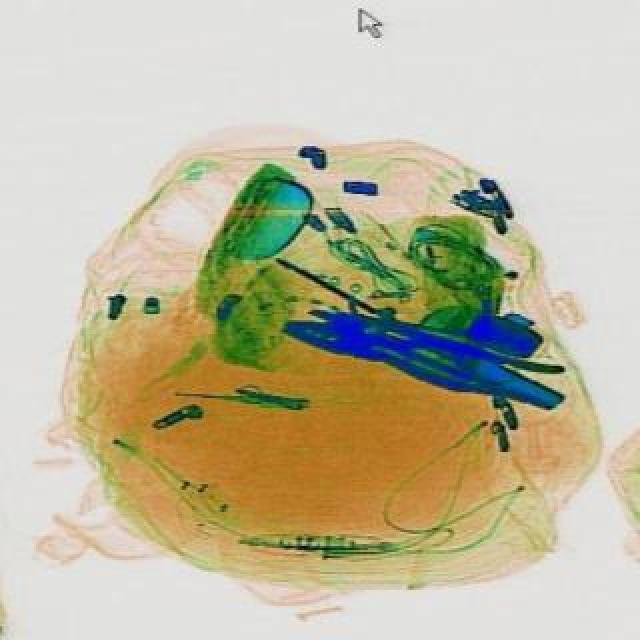wrench: (274, 296, 562, 412)
